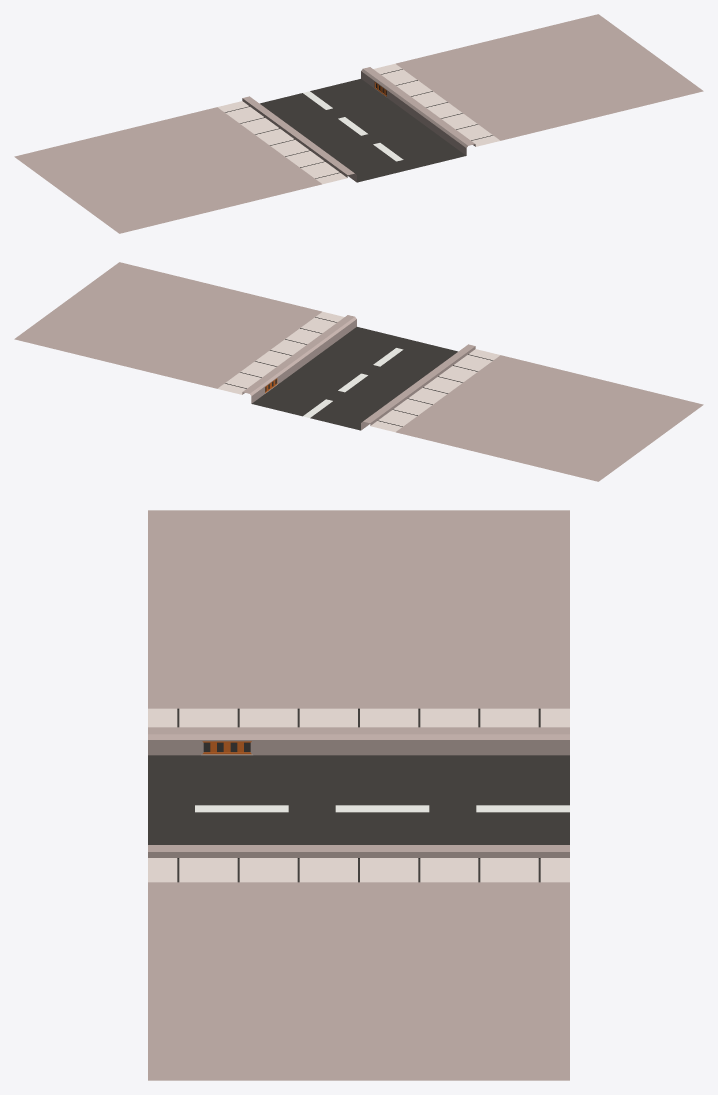
File: Road.fbx
3 views of the same model, one above another, from view 1: azimuth 30°, elevation 25°; view 2: azimuth 150°, elevation 25°; view 3: azimuth 270°, elevation 25° (orthographic). The views are drawn at different scales.
Parts seen in each view (by area): view 1: Road; view 2: Road; view 3: Road.
Boxes of the visible parts, bbox=[...] form: Road: bbox=[14, 14, 703, 233]; Road: bbox=[14, 262, 703, 481]; Road: bbox=[148, 510, 569, 1080].
Size of the model in its own units: 6400 by 100 by 2000.
